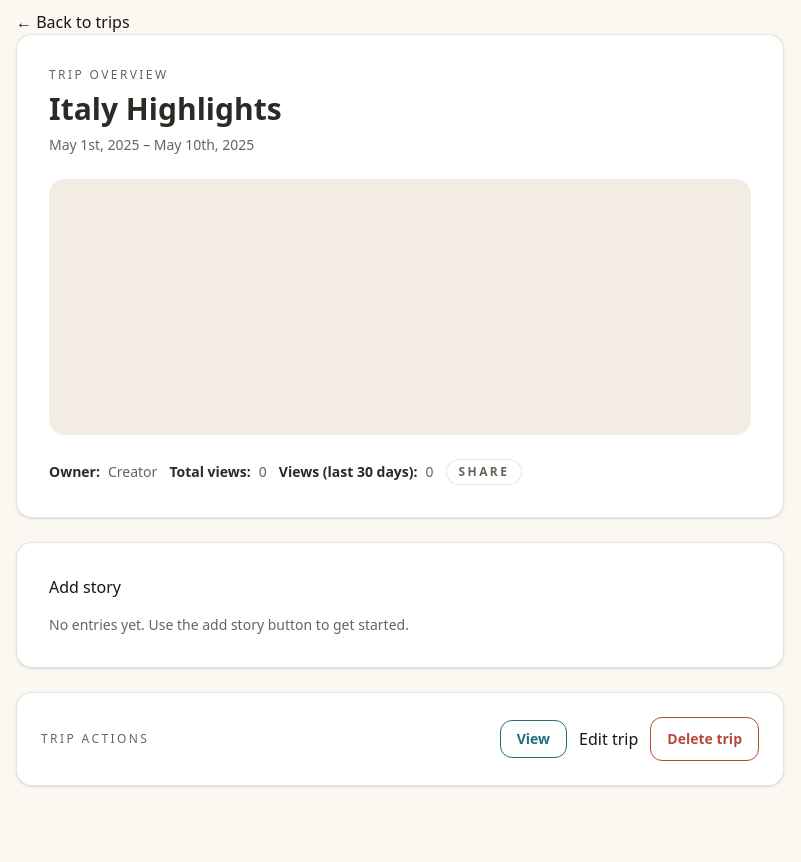
Scenario: TripDetail share panel › toggles contributor access with optimistic updates
This screenshot has width=801, height=862.
Click the button with aria-label "share trip". click: {"x": 484, "y": 472}
box: [446,459,522,485]
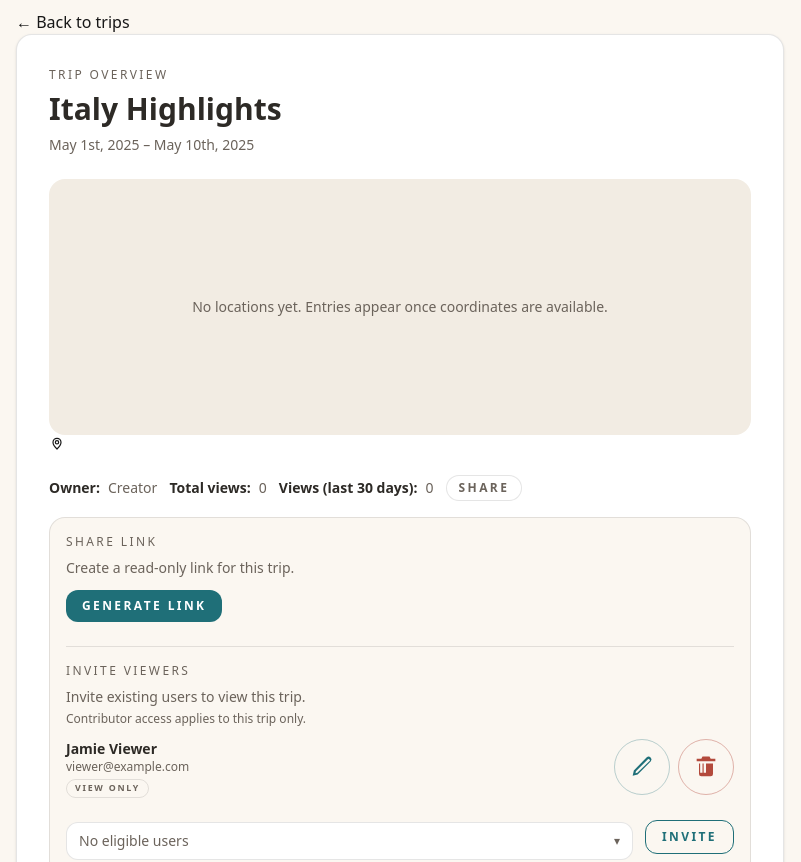
Expected: the text "Jamie Viewer" is shown, [66,739,157,758]
Expected: the text "View only" is shown, [66,779,149,798]
Click the button named "enable contribution". click: {"x": 642, "y": 767}
box: [614,739,670,795]
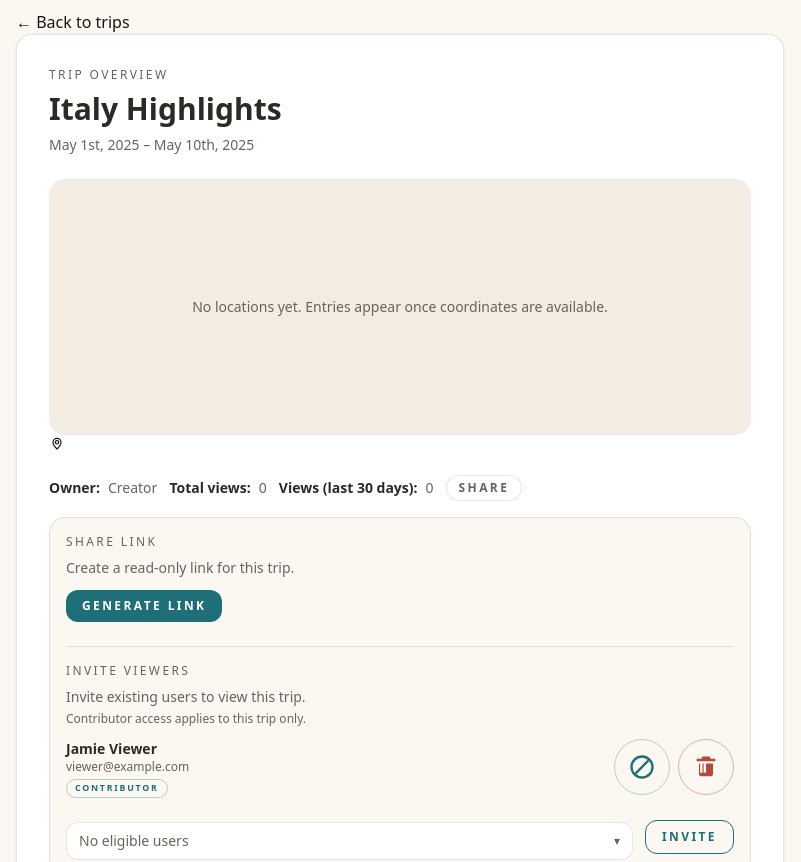
Expected: the list item "Jamie Viewer" is shown, [66,739,157,758]
Expected: the text "Contributor" is shown, [66,779,168,798]
